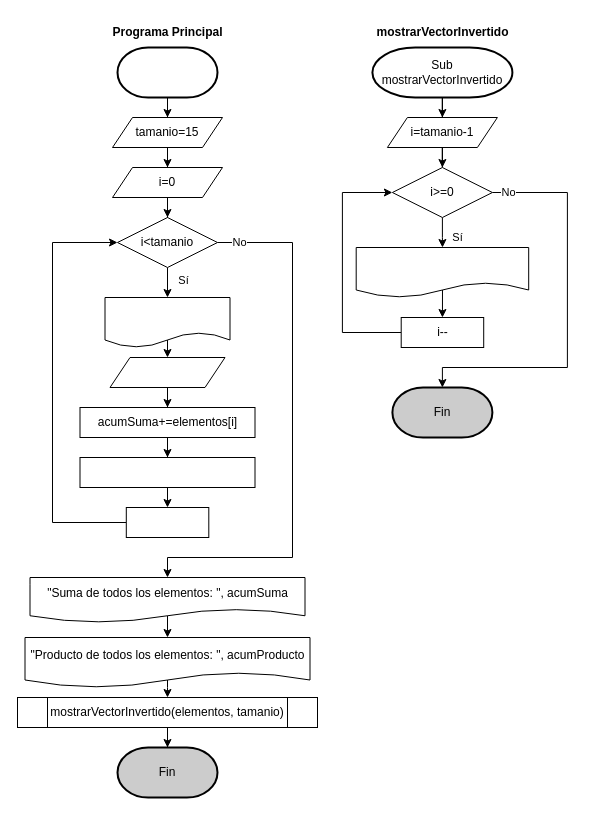
Some shapes in this 593 by 815 pixel diagram are drawn without their labels. The shapes that lost their labels are listed below. From the top down, each one's box as (x1, y1, x2, y2) in pixels, then its label:
(116, 46, 218, 98): Inicio
(355, 246, 529, 298): "Elemento [", i+1, "]: ", vector[i]
(104, 296, 230, 348): "Elemento [", i+1, "]: "
(109, 356, 225, 388): elementos[i]
(79, 456, 255, 488): acumProducto*=elementos[i]
(125, 506, 209, 538): i++
